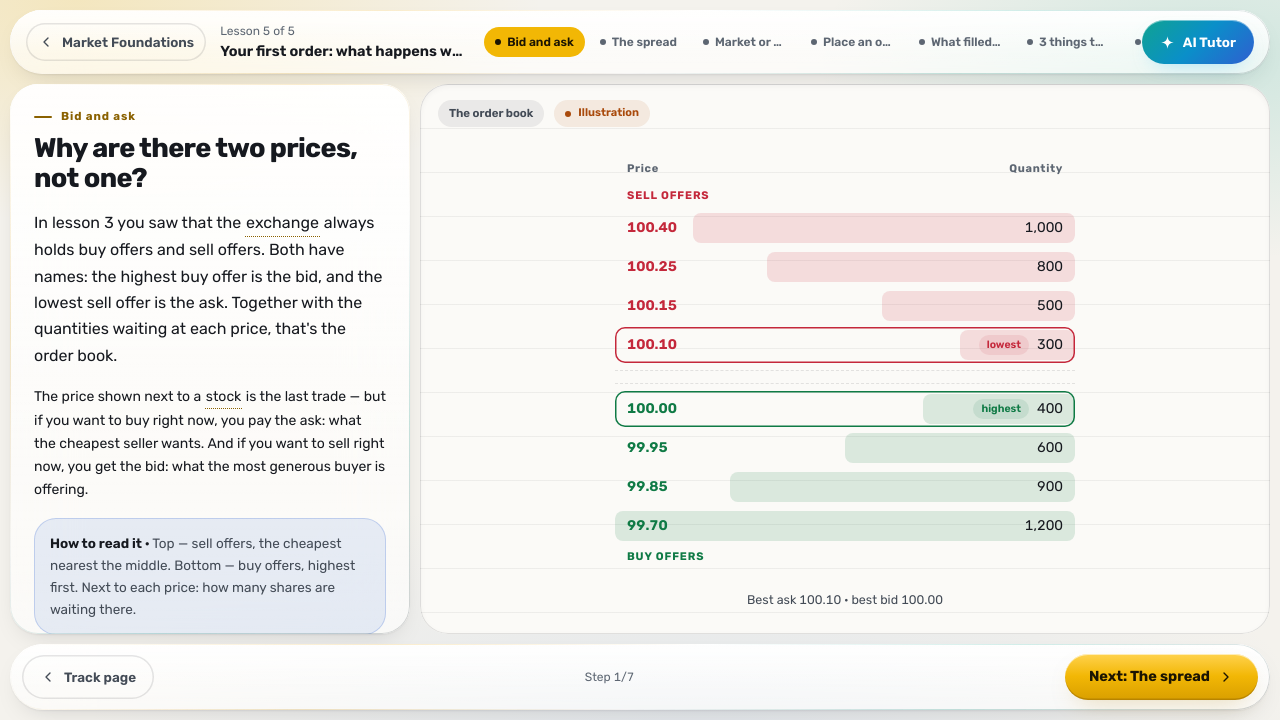
Test case: Foundations 2–5 in the lesson workspace › F5 in English
The image size is (1280, 720).
expect the heading "Why are there two prices, not one?" is shown: met, box [34,133,386,194]
Click the button "Place an order".
click(852, 42)  # box [800,27,904,57]
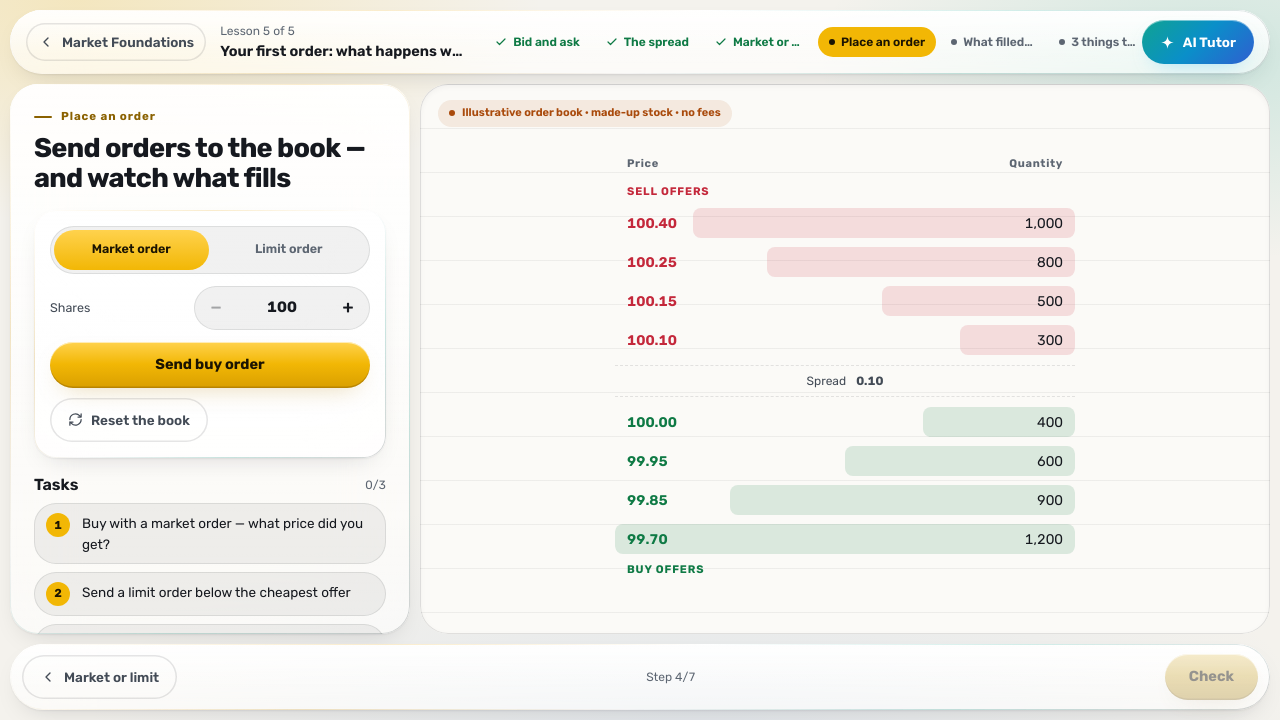
expect the button "Send buy order" is shown: met, box [50,342,370,388]
